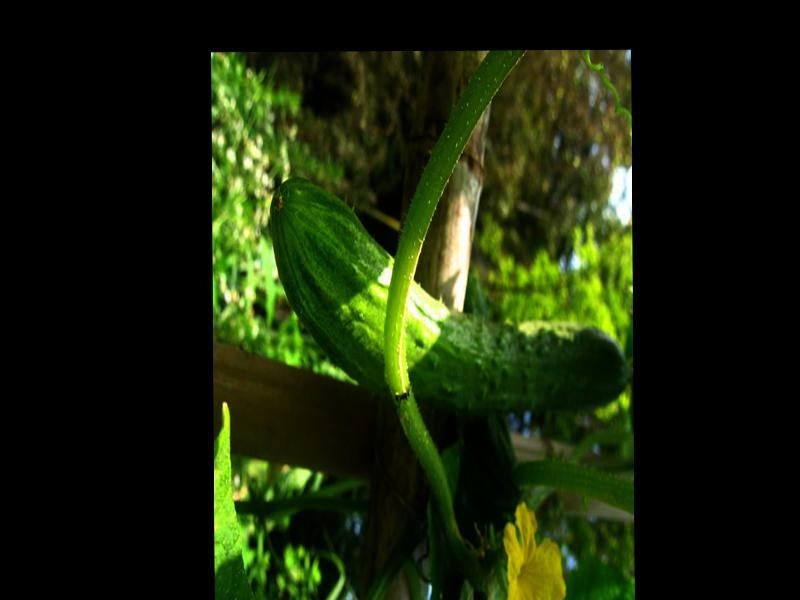Cucumber: (269, 178, 630, 415)
